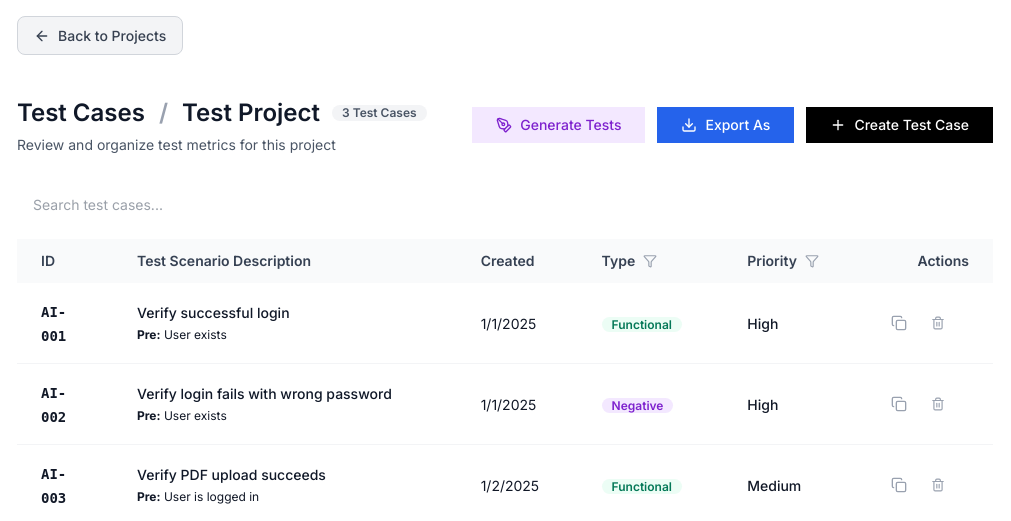
Test: TestCasesView – search filter › filters test cases by search keyword
Check: the text "Verify successful login" is shown, box [137,304,290,321]
Type "pdf" into the field with placeholder "Search test cases..." at (505, 205), box [17,187,993,223]
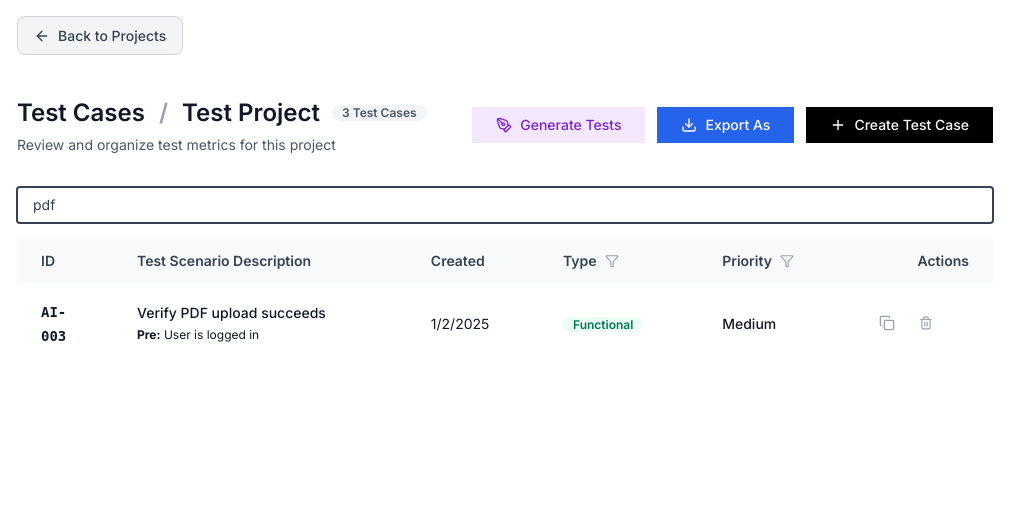
Check: the text "Verify PDF upload succeeds" is shown, box [137,304,326,321]
Check: the text "Verify successful login" is gone
